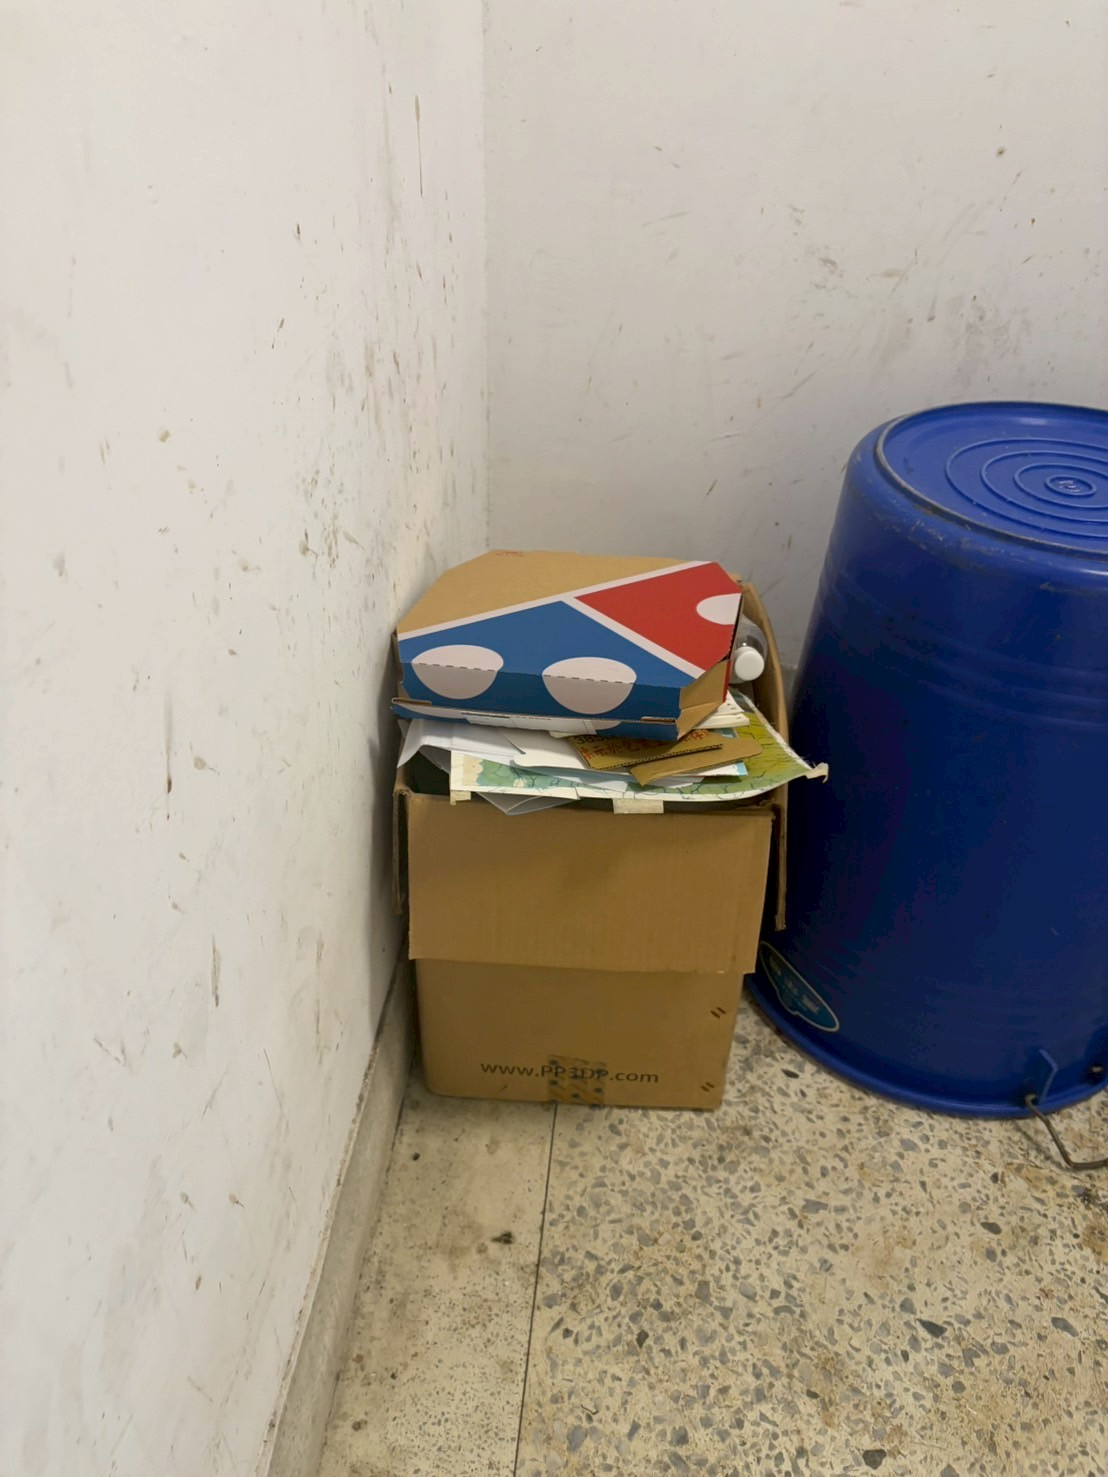overflow_bin: (378, 493, 807, 1138)
